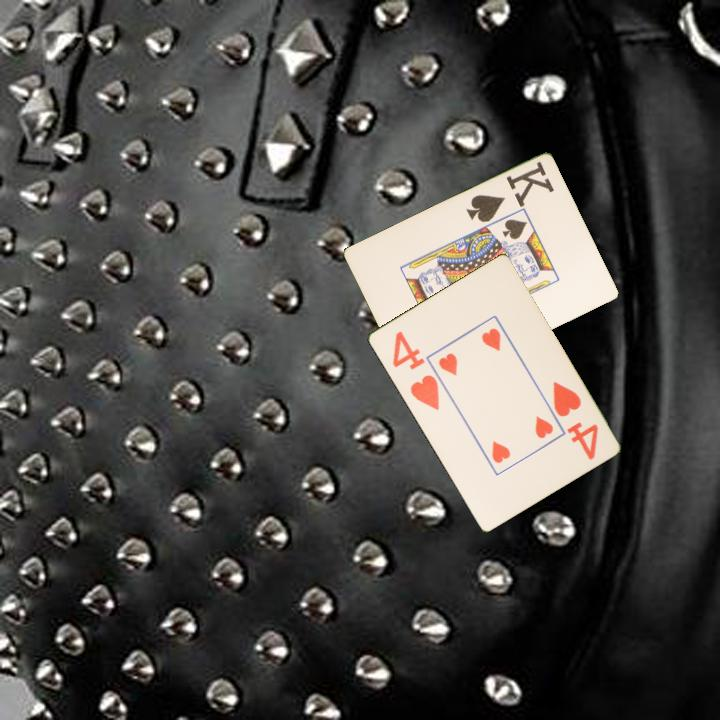4h: (388, 327, 442, 413), (549, 378, 601, 463)
Ks: (462, 158, 557, 226)
